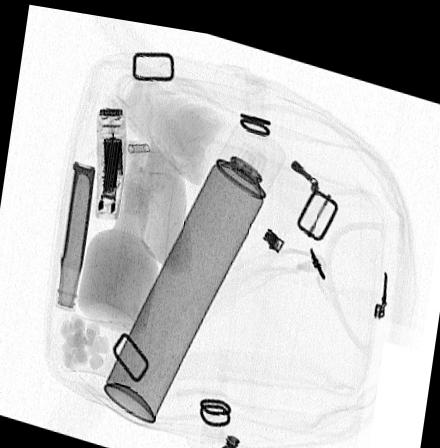Sprayer: (101, 112, 289, 420)
